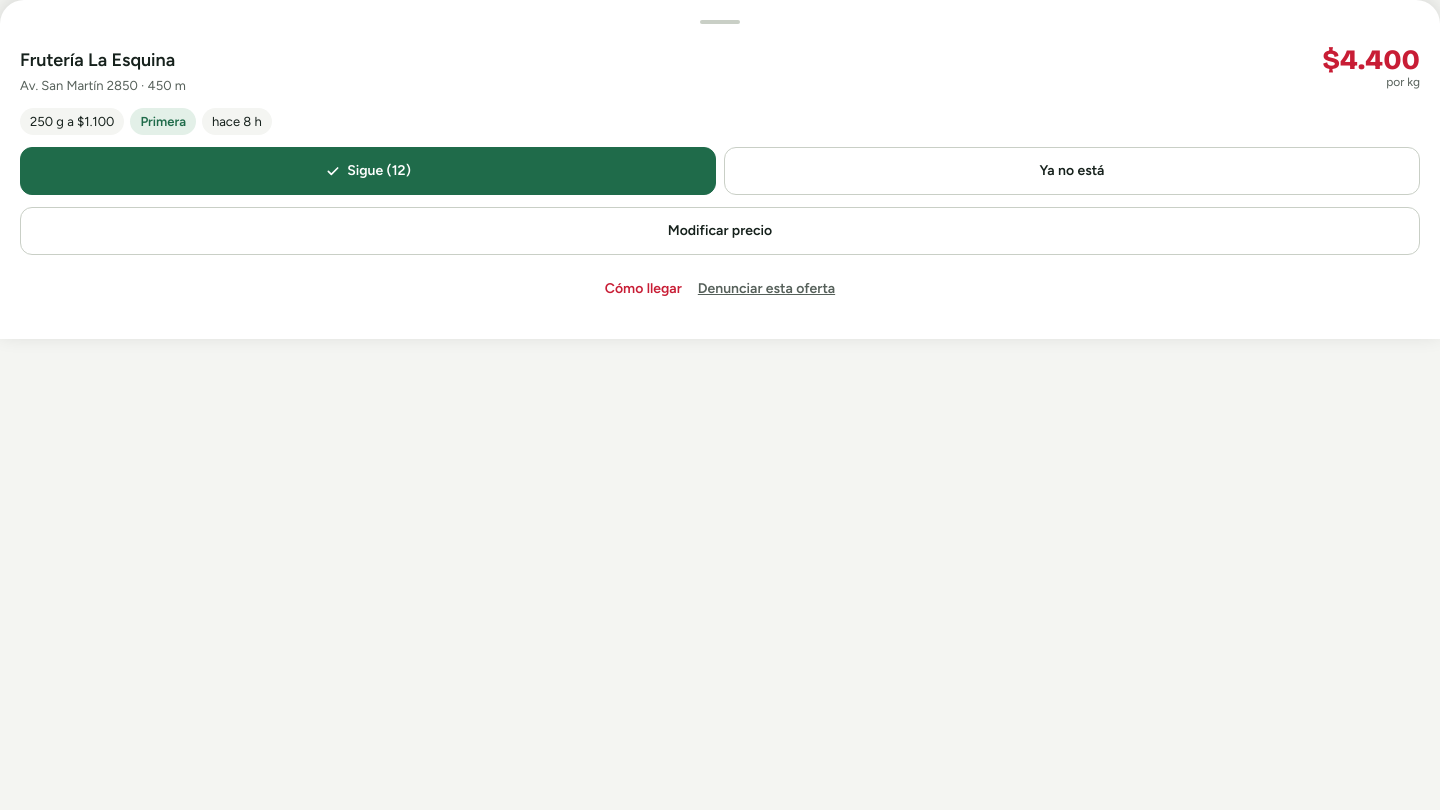
Test: OfferSheet › envía la denuncia con el motivo elegido (E8)
The width and height of the screenshot is (1440, 810).
Click the button "Denunciar esta oferta". click: (766, 289)
box: [698,267,835,311]
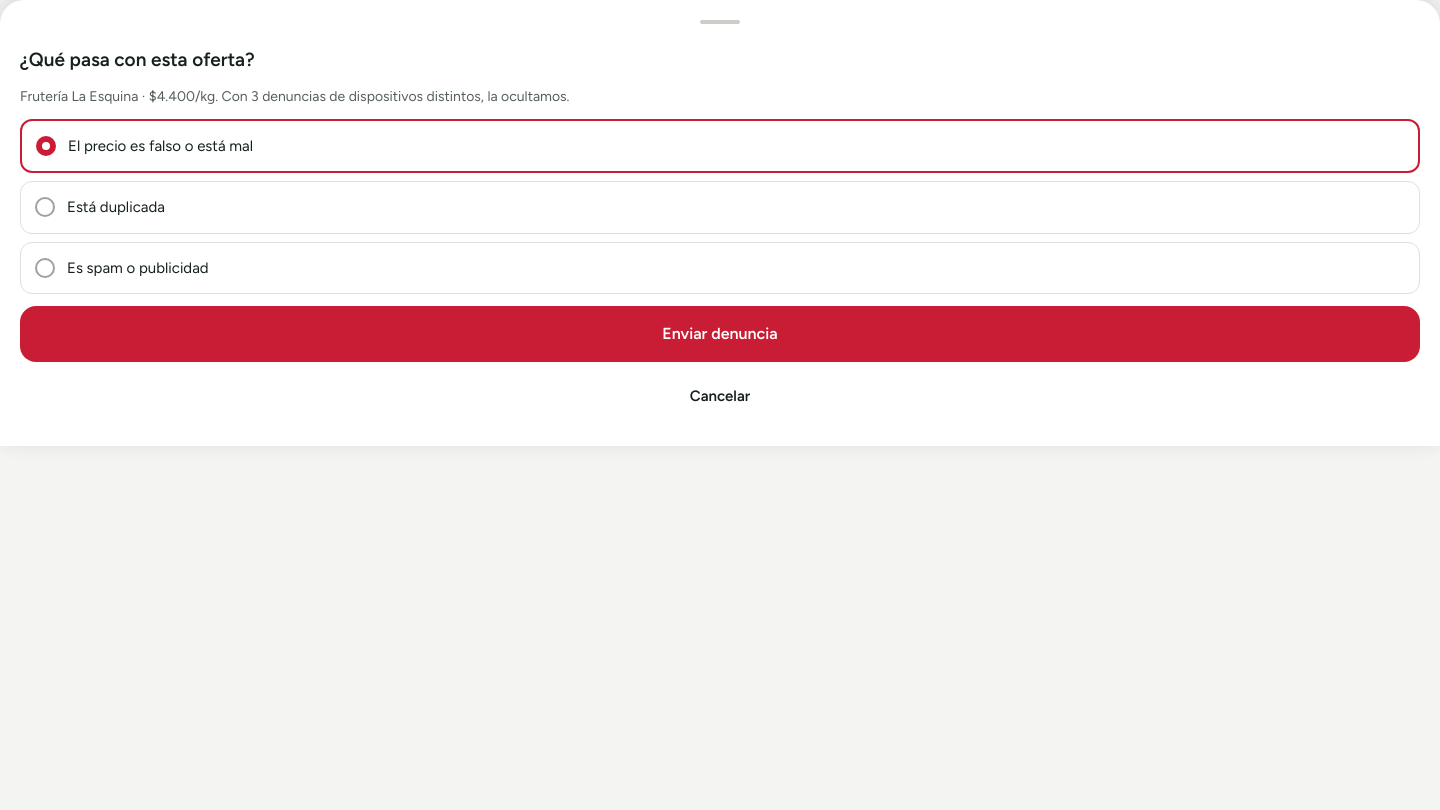
Click the radio button labelled "Está duplicada". click: (116, 207)
box: [20,181,1420,234]
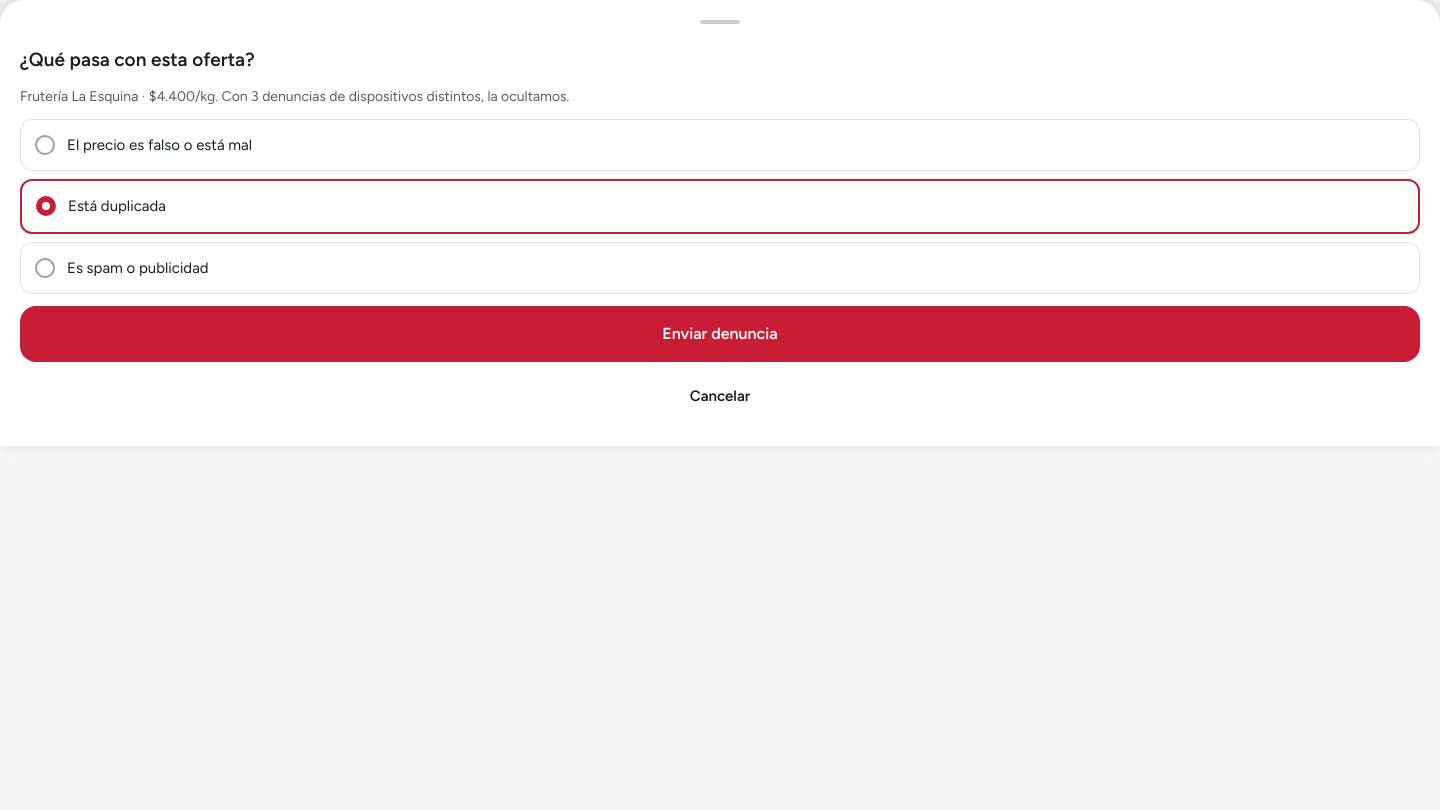
Click the button "Enviar denuncia". click: (720, 334)
box: [20,306,1420,362]
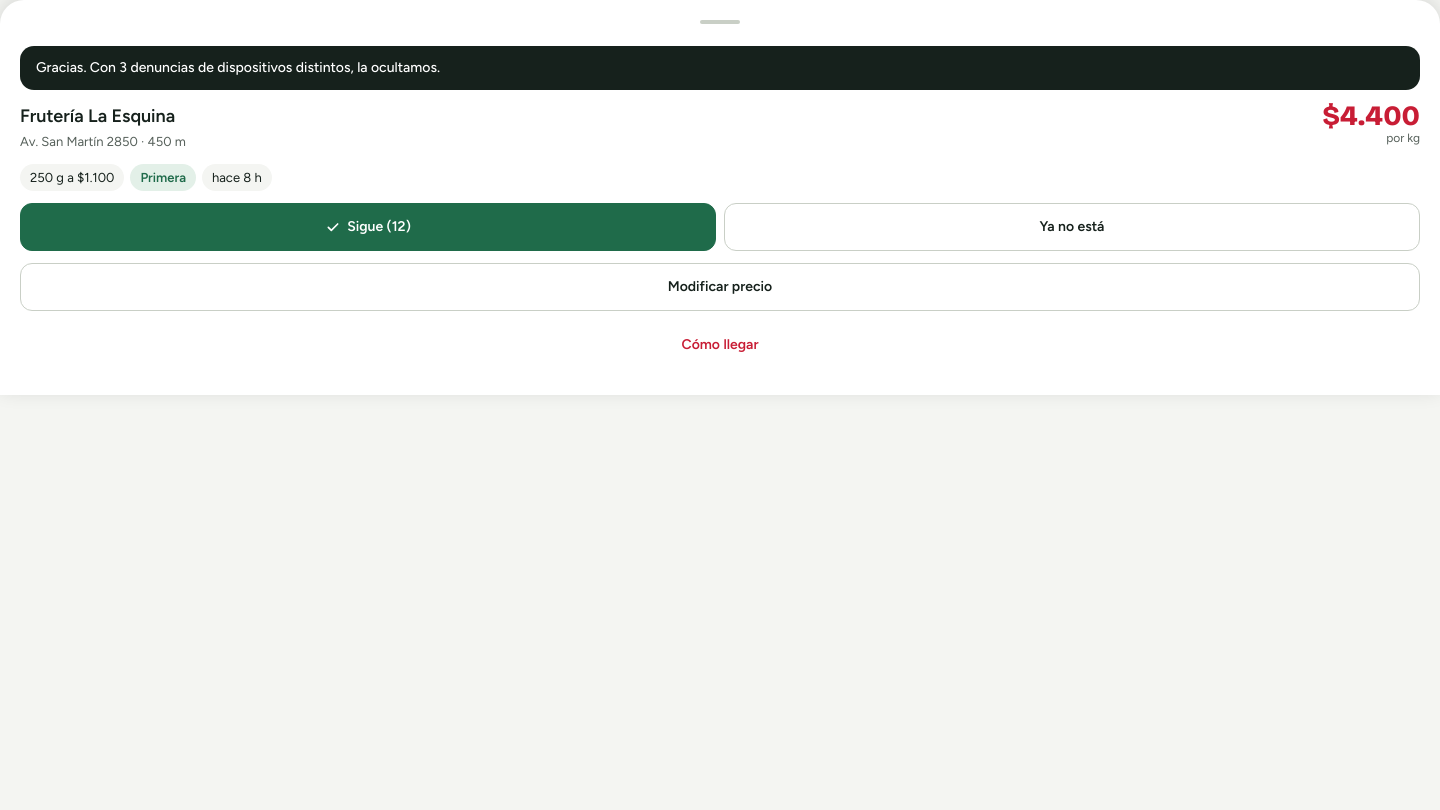
Expected: the button "Denunciar esta oferta" is not shown
Expected: the text "Gracias. Con 3 denuncias de dispositivos distintos, la ocultamos." is shown, [20,46,1420,90]
